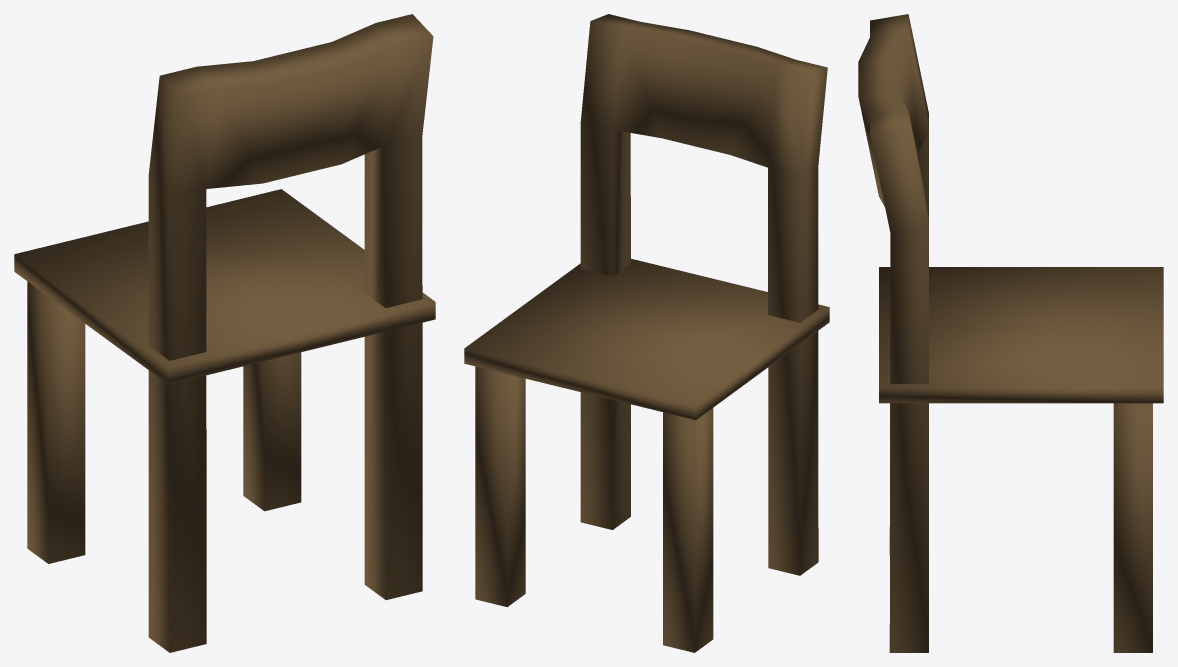
Rendered from Chair.fbx.
3 views of the same model, side by side, from view 1: azimuth 30°, elevation 25°; view 2: azimuth 150°, elevation 25°; view 3: azimuth 270°, elevation 25° (orthographic). The views are drawn at different scales.
Parts seen in each view (by area): view 1: Chair; view 2: Chair; view 3: Chair.
Part boxes in pixels (x1,y1,x2,y2): Chair: (14, 14, 435, 652); Chair: (464, 14, 829, 652); Chair: (858, 14, 1163, 652).
Bounding box in the file's own units: 0.4582 × 0.9337 × 0.4915.
